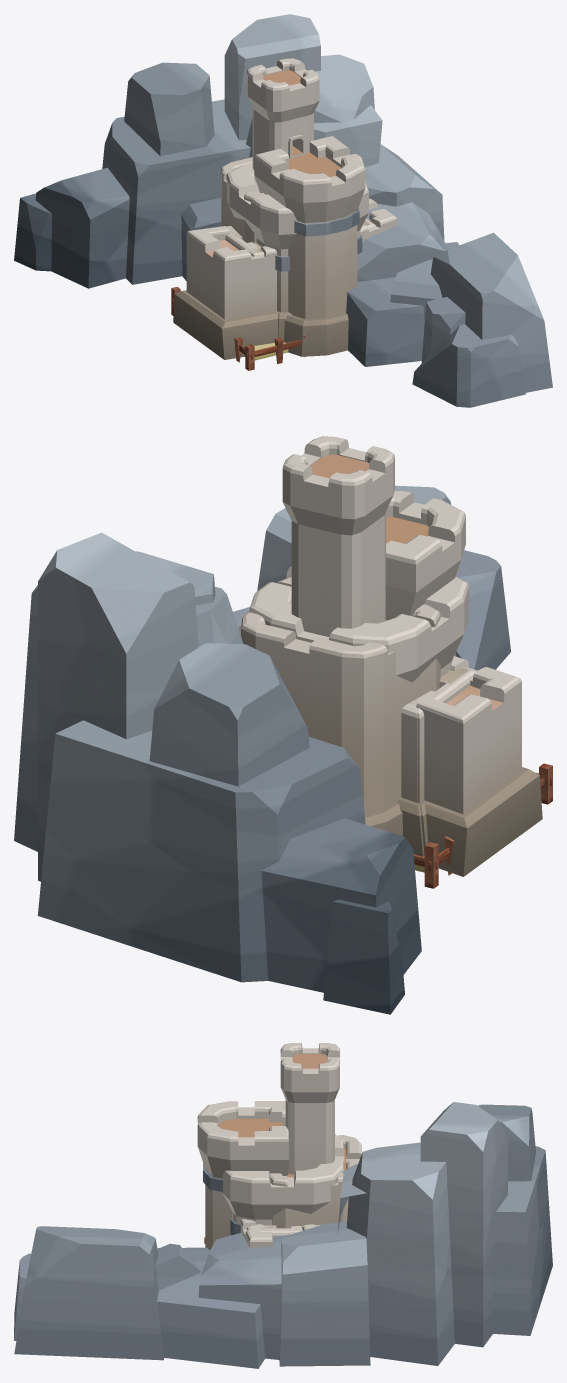
File: Medieval_Constructor1.fbx
3 renders of one model, top to bottom at view 1: azimuth 30°, elevation 25°; view 2: azimuth 150°, elevation 25°; view 3: azimuth 270°, elevation 25°, orthographic. The views are drawn at different scales.
Visible parts, largest first — view 1: rock1, tower1, wall1_1, tower2, fence1; view 2: rock1, tower1, wall1_1, tower2, wall3, wall4g, fence1; view 3: rock1, tower1, tower2, wall1_1.
Part boxes in pixels (<box>): rock1: <box>14,14,552,407</box>; tower1: <box>221,58,365,356</box>; wall1_1: <box>173,198,397,359</box>; tower2: <box>226,163,368,341</box>; fence1: <box>171,287,306,370</box>; rock1: <box>14,485,510,1014</box>; tower1: <box>241,436,465,836</box>; wall1_1: <box>238,625,542,876</box>; tower2: <box>249,566,468,682</box>; wall3: <box>396,667,468,856</box>; wall4g: <box>400,667,475,855</box>; fence1: <box>413,763,552,888</box>; rock1: <box>14,1102,552,1368</box>; tower1: <box>197,1043,361,1249</box>; tower2: <box>222,1134,344,1234</box>; wall1_1: <box>240,1219,315,1248</box>.
Bounding box in the file's own units: 418 × 318 × 638.
Materials: 1 (1 with a texture image).
